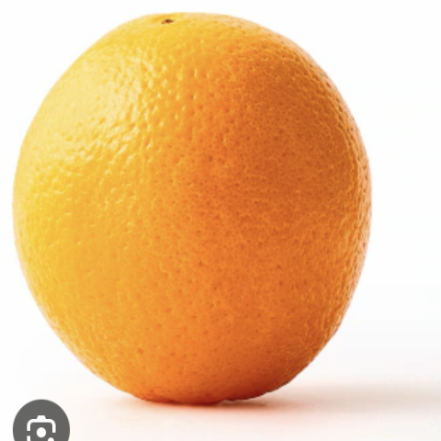orange: (0, 9, 409, 441)
